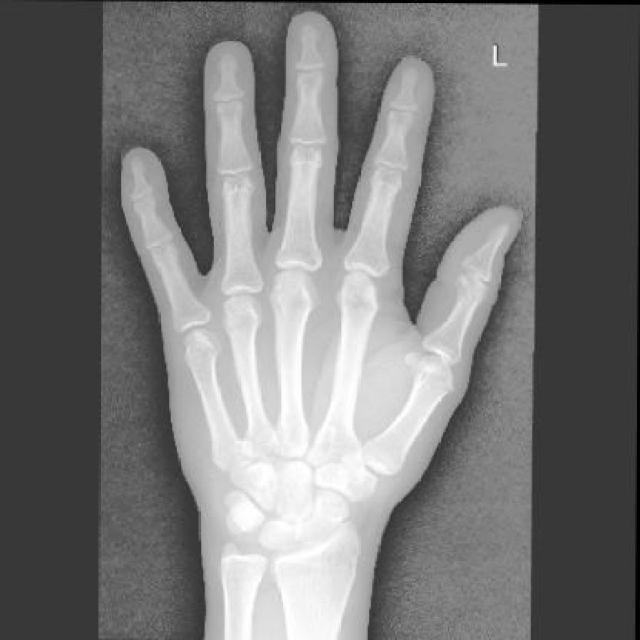Fracture: (206, 434, 250, 468)
